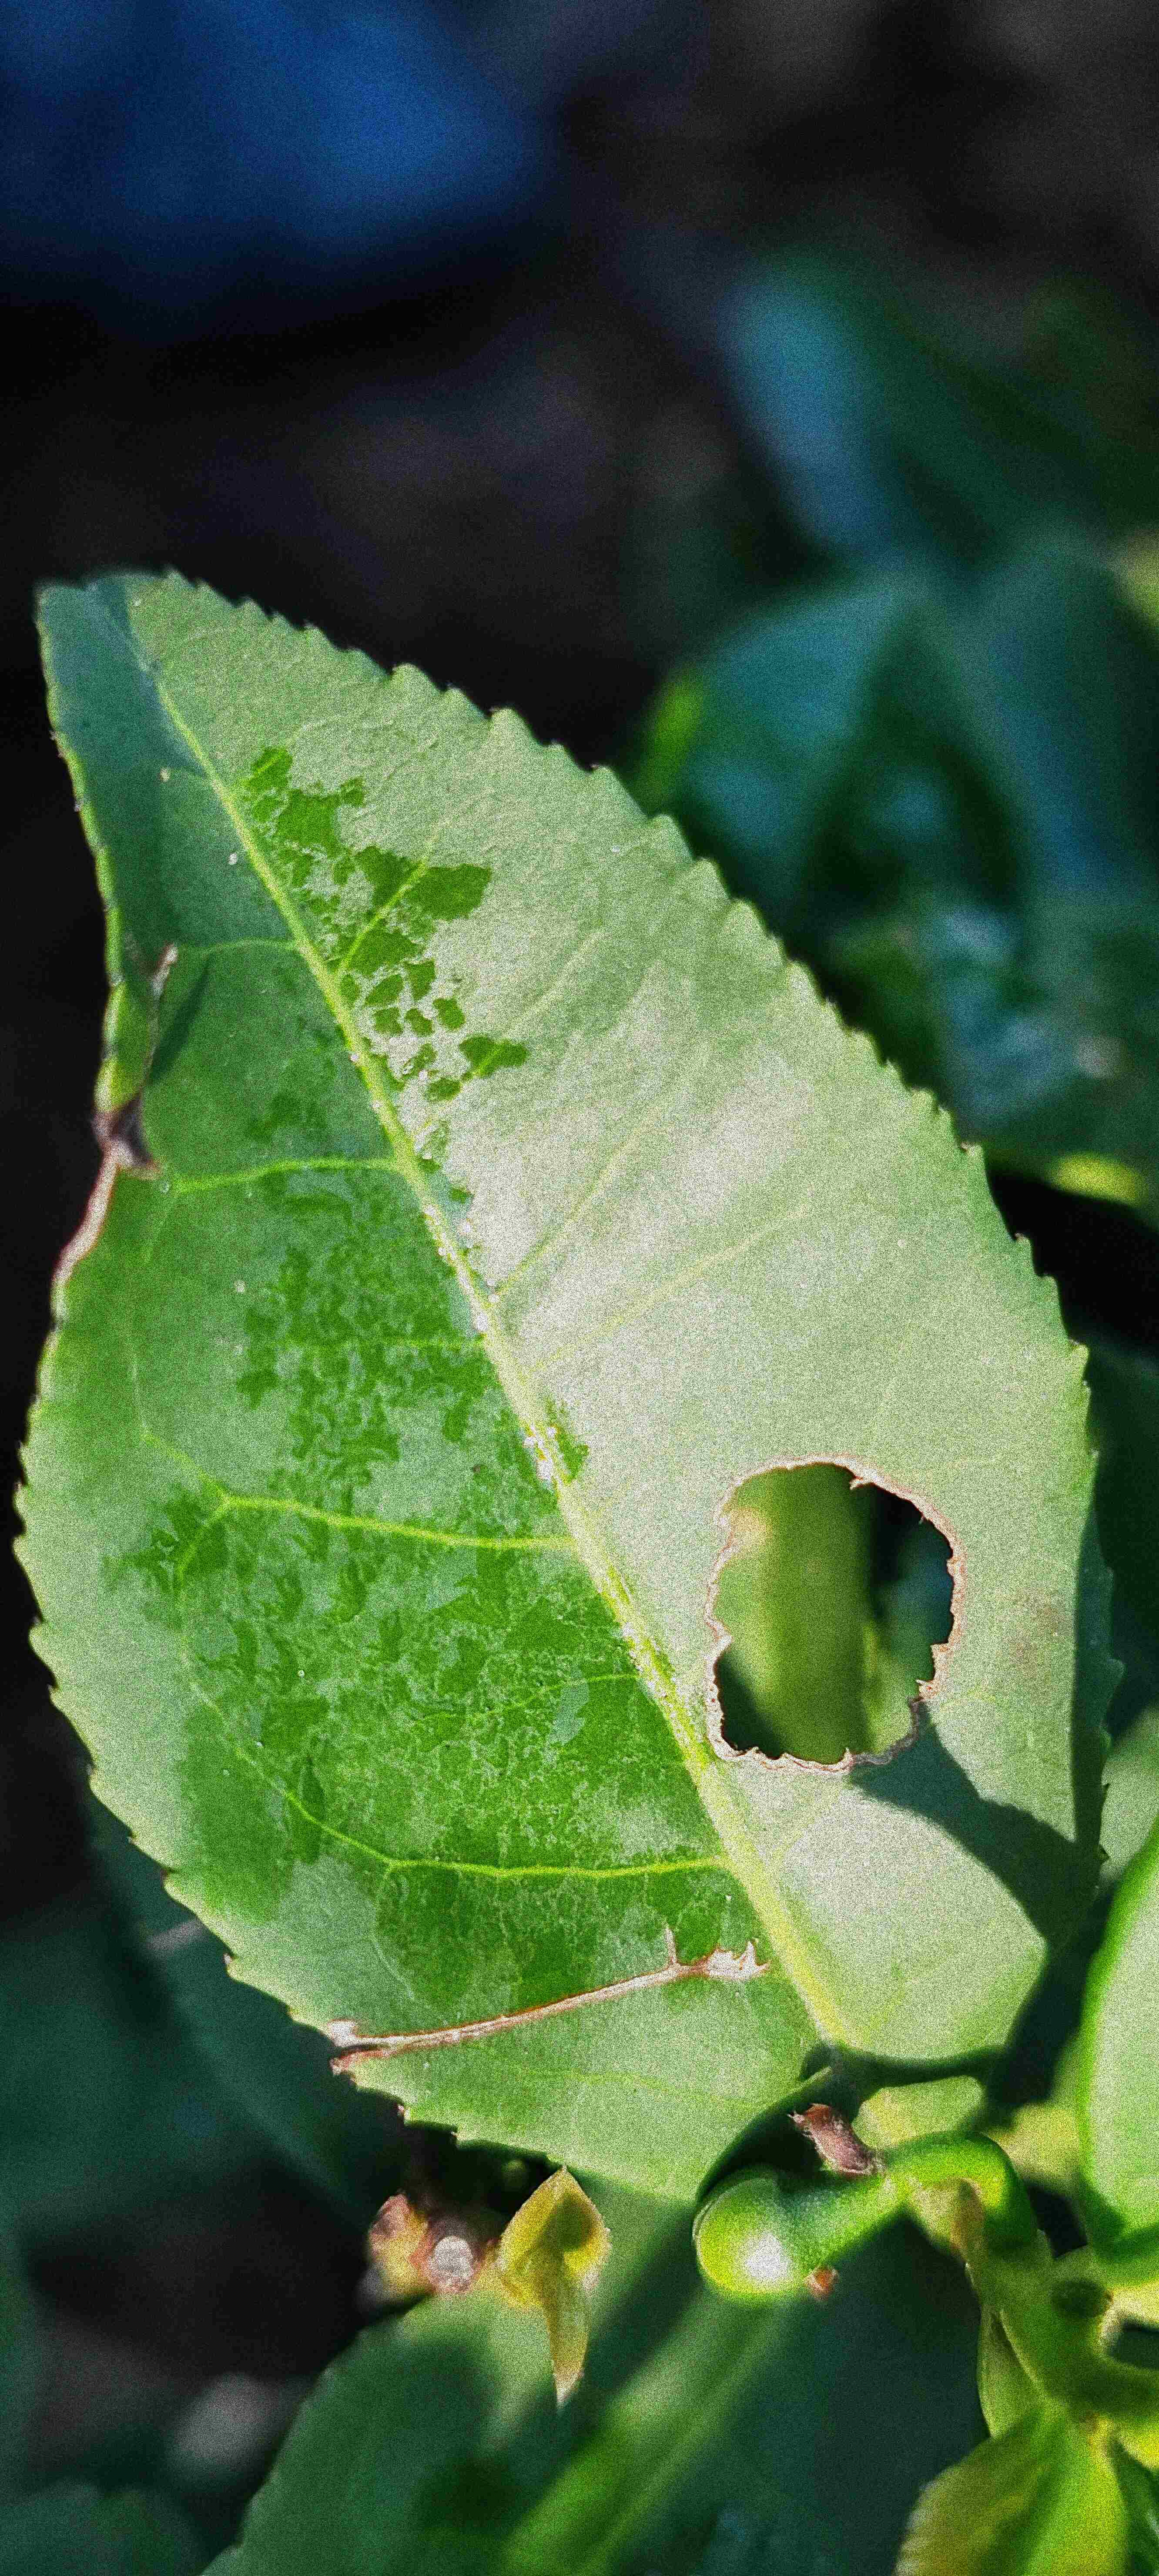chihuo_high: (13, 562, 1131, 2200)
